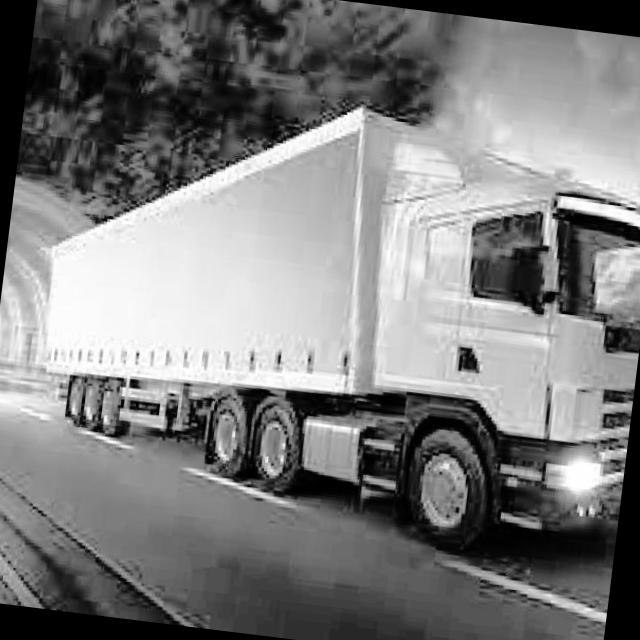Truck: (18, 64, 640, 567)
